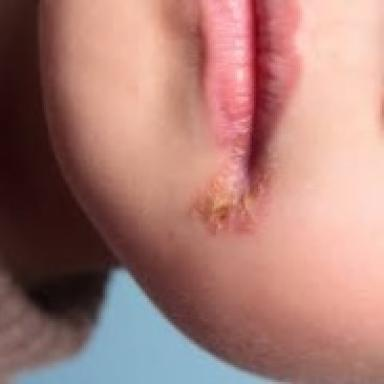Impetigo: (184, 141, 291, 240)
